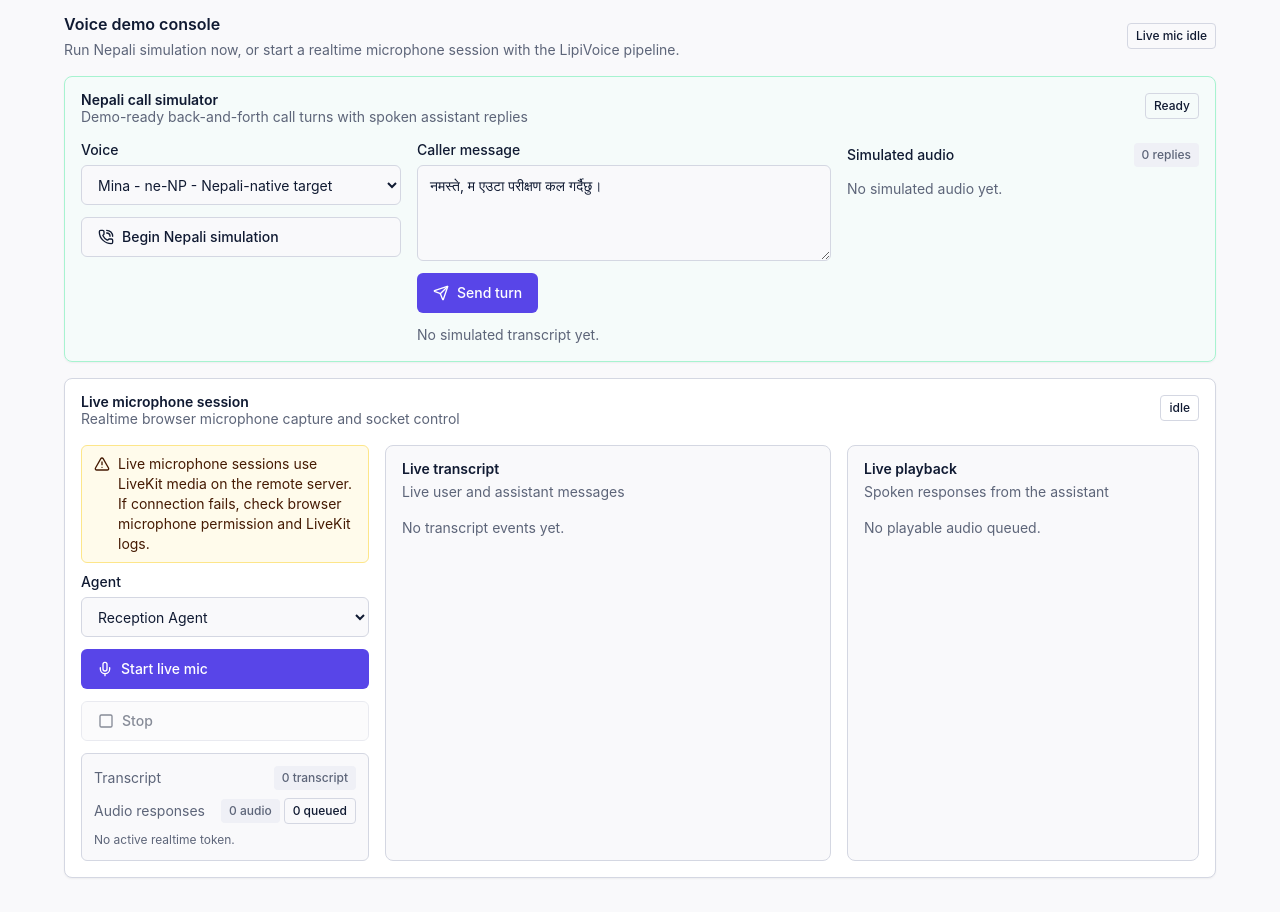
Test: VoiceConsolePage › renders transcript and audio events from the server
Click the button "Start live mic": (164, 668) 81,649 -> 369,689
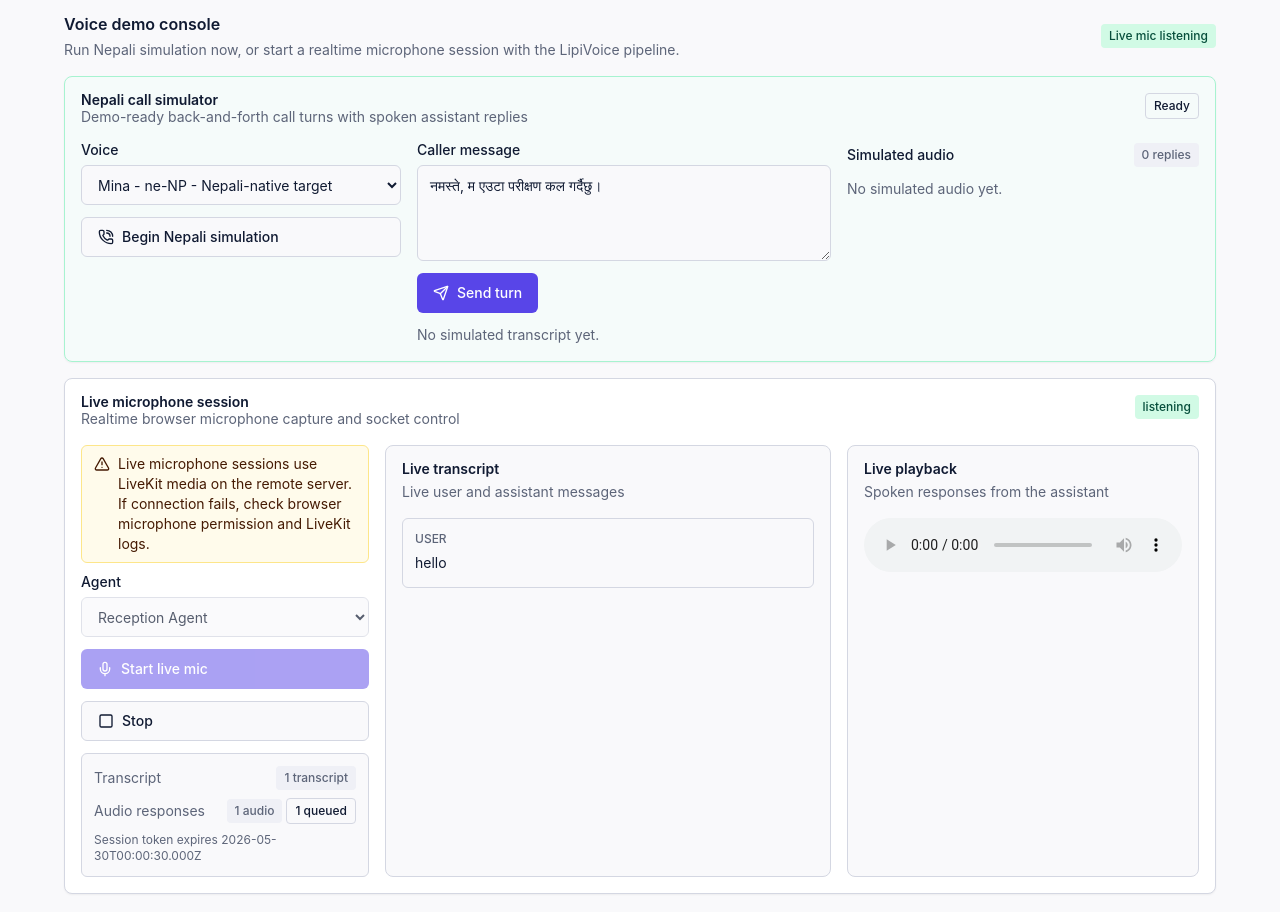
Expected: the text "hello" is shown, 415,554 -> 447,571
Expected: the text "1 queued" is shown, 286,798 -> 356,824
